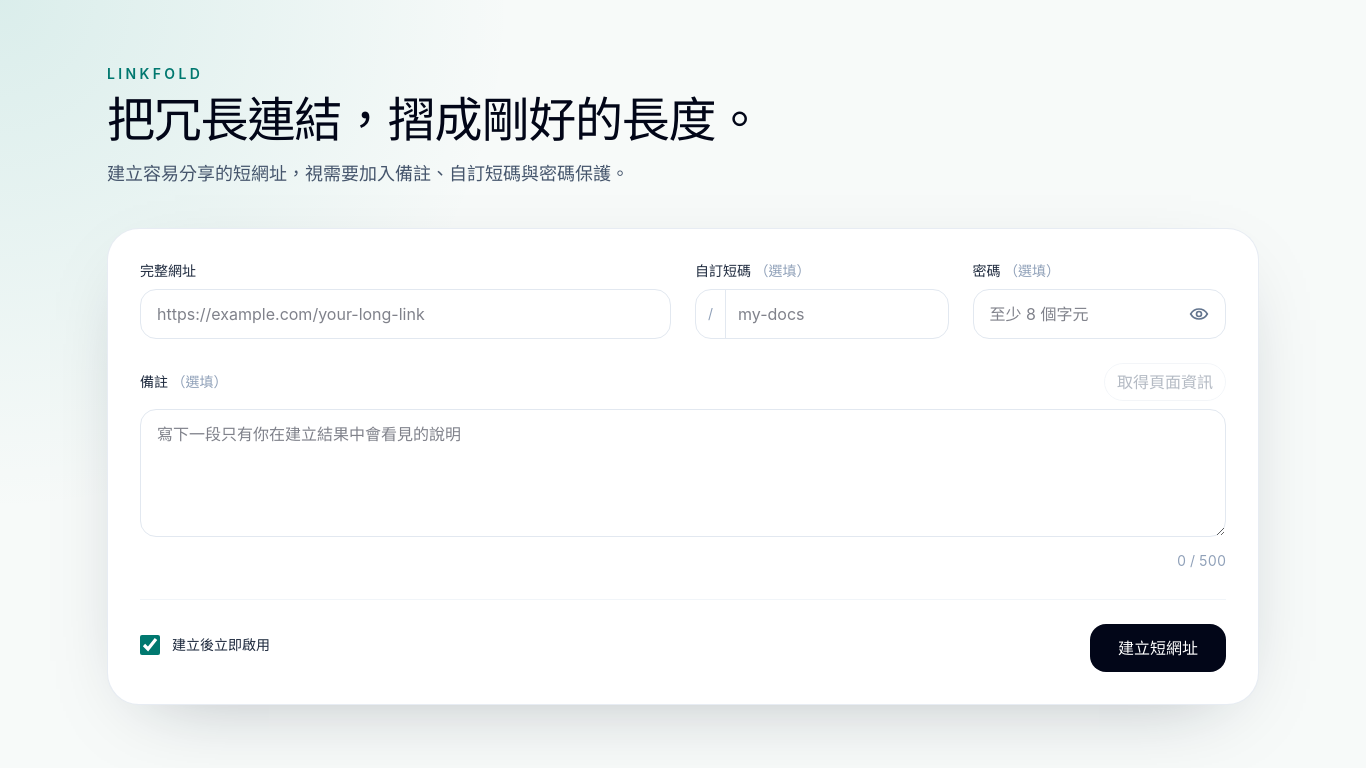
CreateLinkView 表單 › disabled 結果可複製但不可開啟，並說明無法重新啟用
In the field with id "original-url": (406, 314) top-left (140, 289), bottom-right (671, 339), type "https://example.com/docs"
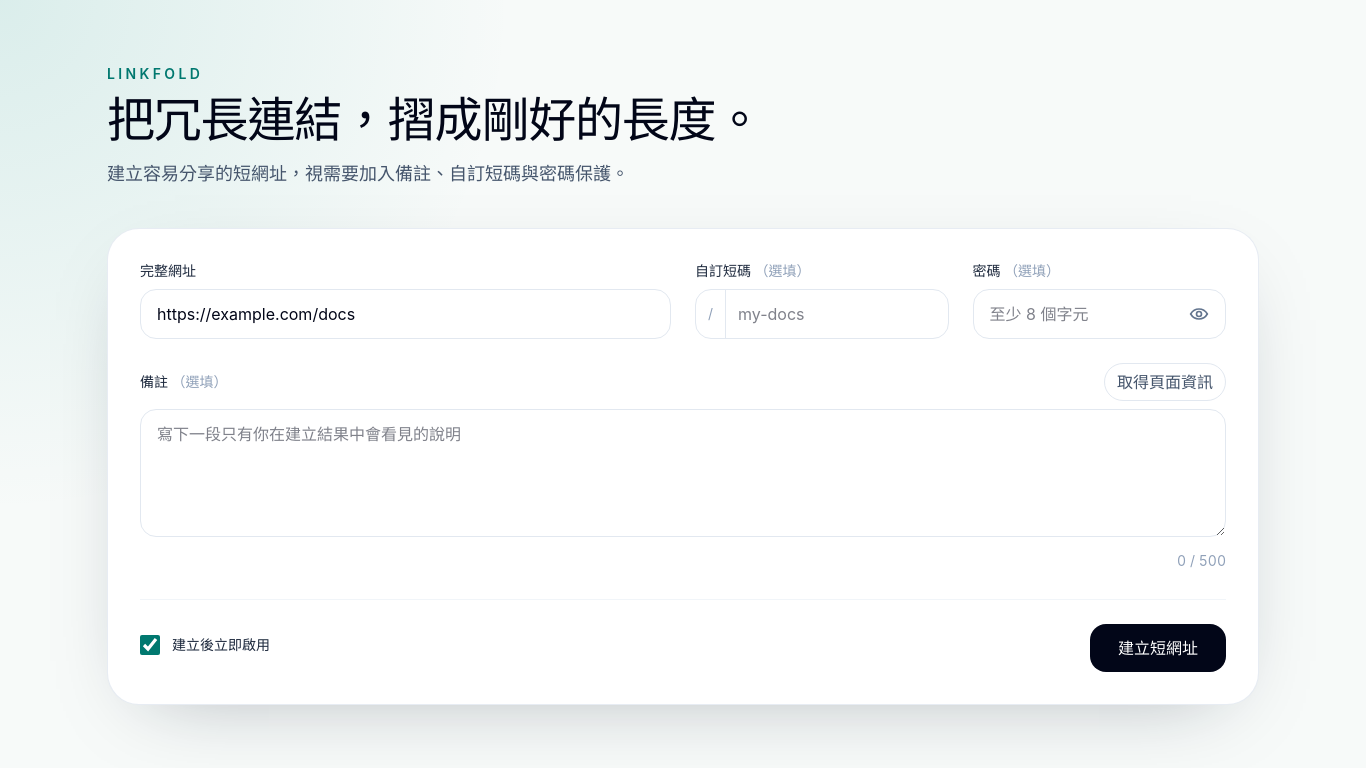
Click the checkbox with id "enabled": (150, 645) top-left (140, 635), bottom-right (160, 655)
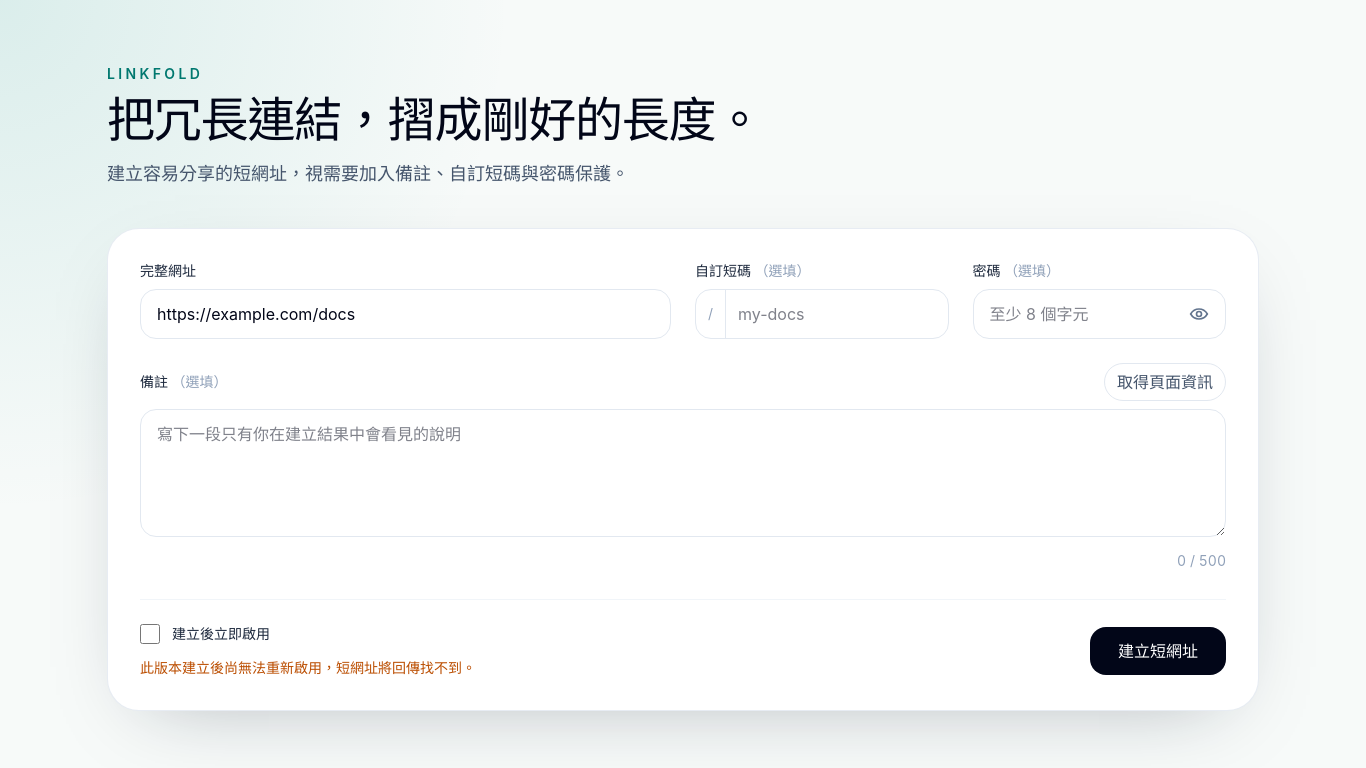
Submit the form, box top-left (107, 228), bottom-right (1259, 711)
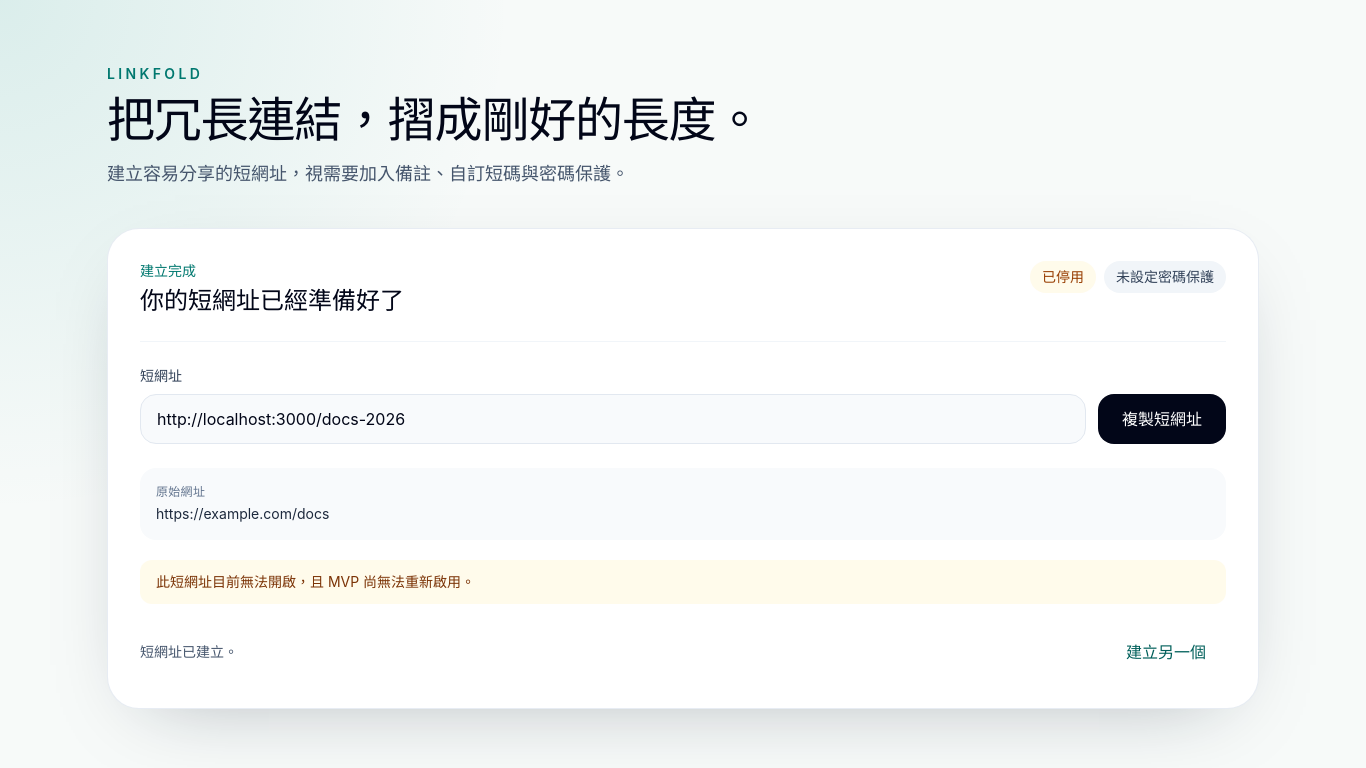
Check: the text "無法重新啟用" is shown, box top-left (156, 573), bottom-right (475, 590)
Check: the text with test id "enabled-status" reads "已停用", box top-left (1042, 268), bottom-right (1084, 285)
Check: the button "複製短網址" is shown, box top-left (1098, 394), bottom-right (1226, 444)
